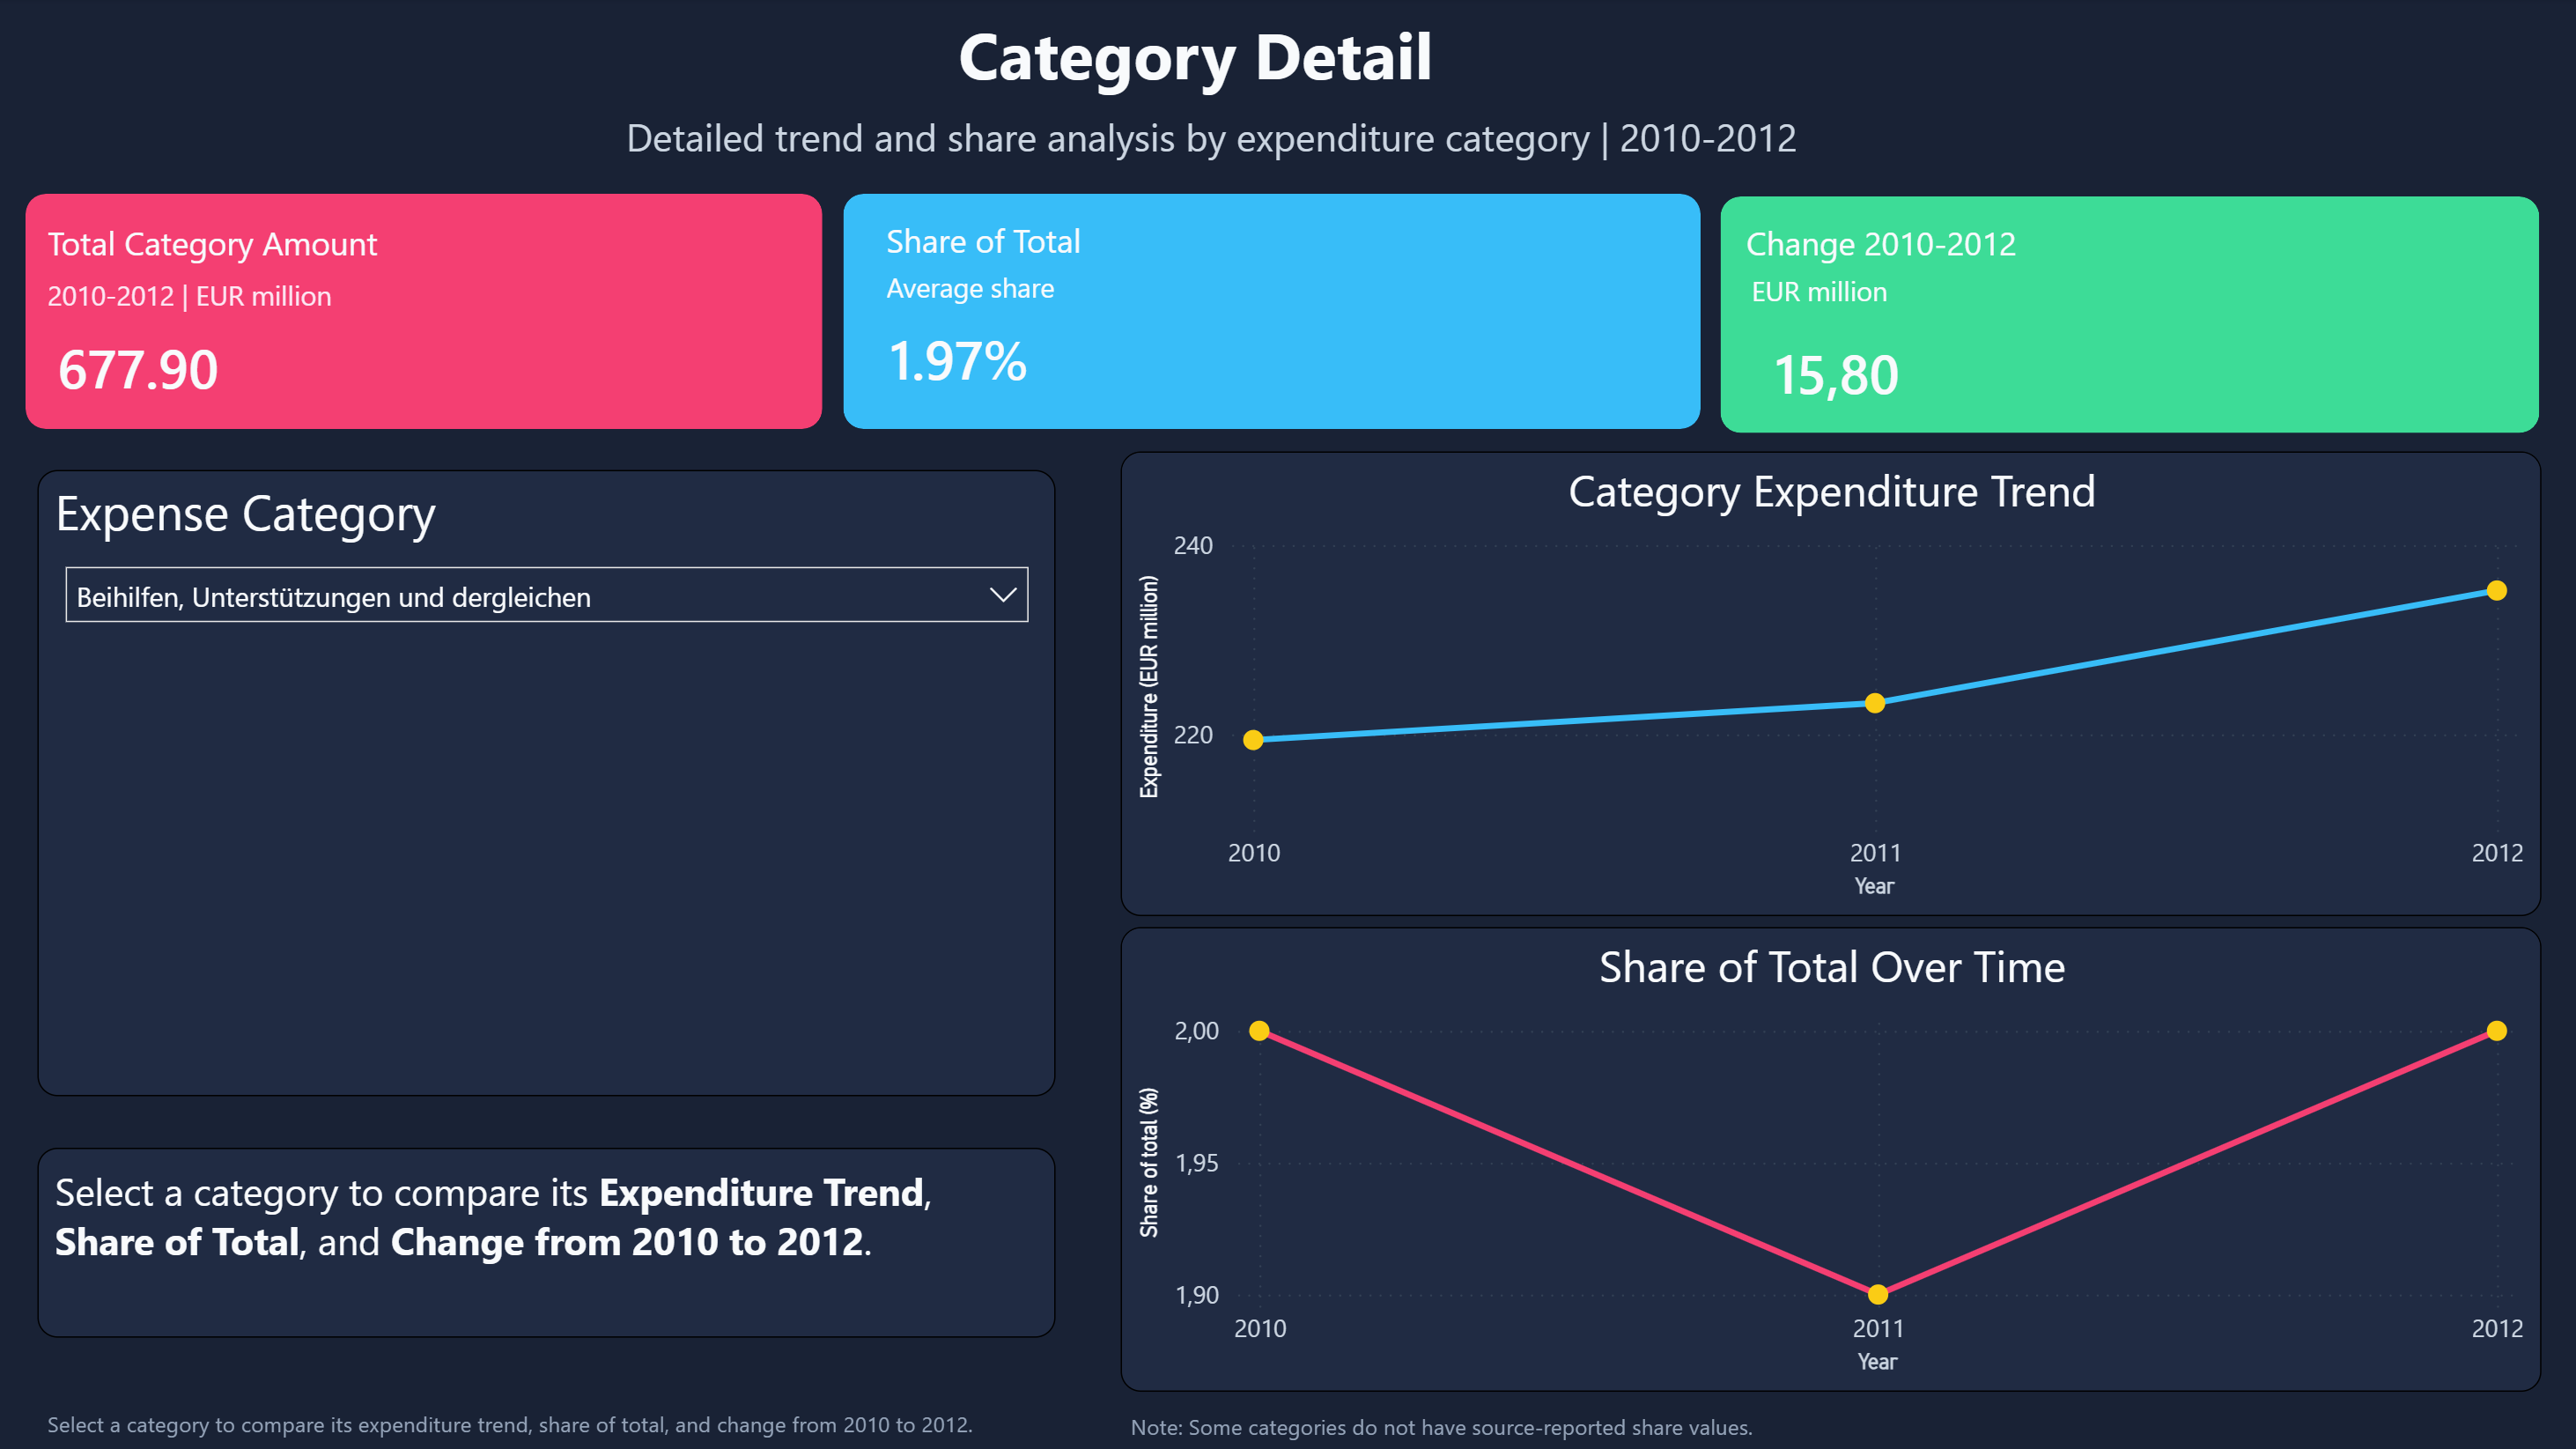

What the dashboard file says about the page in this screenshot:
{"tool":"powerbi","page":{"name":"Category Detail","canvas":[1280,720],"ordinal":2},"visuals":[{"type":"textbox","box":[374.7,0,435.5,53],"z":0},{"type":"shape","box":[13,96.8,394.4,116.4],"z":0,"group":"g3"},{"type":"shape","box":[852.1,98.1,405.5,117.1],"z":500,"group":"g2"},{"type":"textbox","box":[268.1,32.7,664.4,70.6],"z":1000},{"type":"textbox","box":[19,104.6,255,31.4],"z":1000,"group":"g3"},{"type":"textbox","box":[19,132.2,151.7,28.1],"z":2000,"group":"g3"},{"type":"slicer","title":"Expense Category","fields":{"Values":["fact_expenses_detail.Expense Category"]},"box":[19,233.5,504.2,310],"z":2000},{"type":"cardVisual","title":"Expense Categories","fields":{"Data":["Measures (2).Selected Category Change"]},"box":[836.4,143.9,147.8,80.4],"z":3000,"group":"g2"},{"type":"cardVisual","title":"Total Expenditure","fields":{"Data":["Measures (2).Selected Category Actual Display"]},"box":[0,144.5,185.1,73.2],"z":3000,"group":"g3"},{"type":"group","id":"g1","title":"Group 2","box":[409.4,96.8,432.9,116.4],"z":4000},{"type":"group","id":"g2","title":"Group 3","box":[836.4,98.1,421.1,126.2],"z":5000},{"type":"lineChart","title":"Category Expenditure Trend","fields":{"Category":["Dim_Year.Year"],"Y":["Measures (2).Selected Category Actual"]},"box":[555.2,224.3,703.7,230.2],"z":5001},{"type":"lineChart","title":"Share of Total Over Time","fields":{"Category":["Dim_Year.Year"],"Y":["Measures (2).Selected Category Share"]},"box":[555.2,459.7,703.7,230.2],"z":5002},{"type":"textbox","box":[19,568.9,504.2,94.2],"z":5003},{"type":"textbox","box":[19,689.9,475.4,28.8],"z":5004},{"type":"group","id":"g3","title":"Group 1","box":[0,96.8,407.4,121],"z":5006},{"type":"textbox","box":[555.2,691.2,331.6,28.8],"z":5007},{"type":"shape","box":[417.9,96.8,424.4,116.4],"z":9500,"group":"g1"},{"type":"textbox","box":[860.3,104.4,159.9,31.4],"z":11000,"group":"g2"},{"type":"textbox","box":[862.3,130.2,124.3,29.4],"z":13000,"group":"g2"},{"type":"textbox","box":[434.4,103.4,241.5,31.4],"z":14000,"group":"g1"},{"type":"textbox","box":[434.5,128.3,107.9,32.7],"z":15000,"group":"g1"},{"type":"cardVisual","title":"Average Share of Total","fields":{"Data":["Measures (2).Selected Category Share Display"]},"box":[409.4,141.4,132.8,71.3],"z":16001,"group":"g1"}]}

Visuals, with their boxes in screenshot pixels (x1, y1, x2, y2), scaled from the page's 1280x720 canvas onto the 2576x1449 screenshot:
textbox: left=754, top=0, right=1630, bottom=107
shape: left=26, top=195, right=820, bottom=429
shape: left=1715, top=197, right=2531, bottom=433
textbox: left=540, top=66, right=1877, bottom=208
textbox: left=38, top=211, right=551, bottom=274
textbox: left=38, top=266, right=343, bottom=322
"Expense Category" slicer: left=38, top=469, right=1053, bottom=1094
"Expense Categories" cardVisual: left=1683, top=290, right=1981, bottom=451
"Total Expenditure" cardVisual: left=0, top=291, right=373, bottom=438
"Group 2" group: left=824, top=195, right=1695, bottom=429
"Group 3" group: left=1683, top=197, right=2531, bottom=451
"Category Expenditure Trend" lineChart: left=1118, top=451, right=2534, bottom=914
"Share of Total Over Time" lineChart: left=1118, top=925, right=2534, bottom=1388
textbox: left=38, top=1145, right=1053, bottom=1334
textbox: left=38, top=1388, right=995, bottom=1446
"Group 1" group: left=0, top=195, right=820, bottom=439
textbox: left=1118, top=1391, right=1784, bottom=1448
shape: left=841, top=195, right=1695, bottom=429
textbox: left=1731, top=211, right=2053, bottom=273
textbox: left=1735, top=262, right=1986, bottom=322
textbox: left=875, top=208, right=1361, bottom=271
textbox: left=875, top=258, right=1091, bottom=324
"Average Share of Total" cardVisual: left=824, top=285, right=1091, bottom=428
